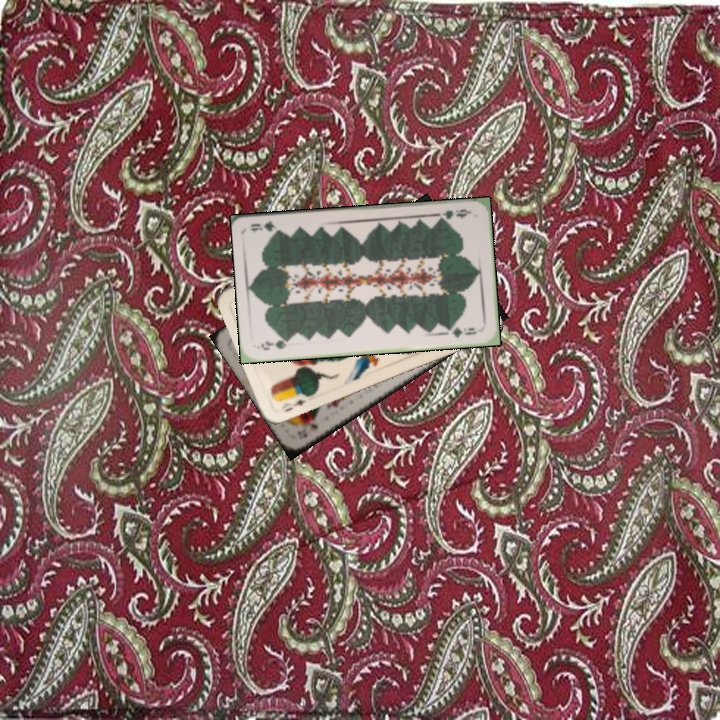EO: (278, 389, 313, 415)
G9: (434, 205, 474, 223), (254, 335, 293, 353)
SK: (293, 419, 321, 442)
